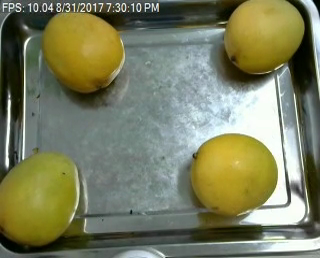Mango: (0, 150, 80, 249), (189, 133, 280, 217), (39, 9, 127, 93), (222, 0, 306, 75)
